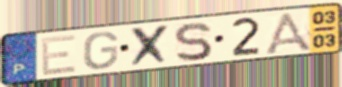2: (230, 16, 262, 57)
A: (261, 10, 316, 55)
E: (39, 32, 79, 77)
G: (82, 30, 120, 71)
S: (171, 21, 214, 63)
X: (128, 22, 172, 70)
